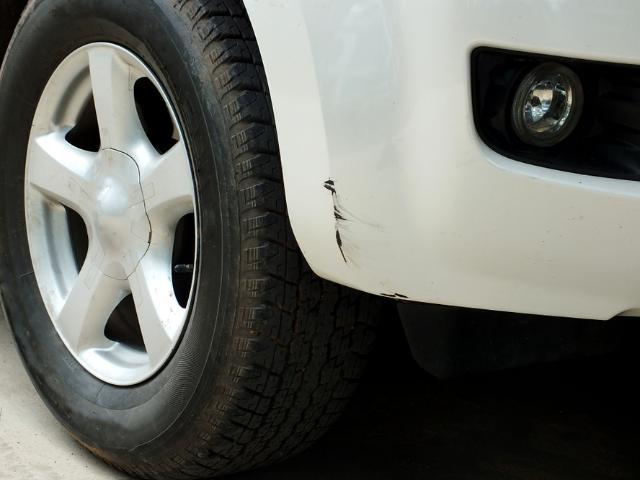Bumper: (292, 137, 398, 276)
